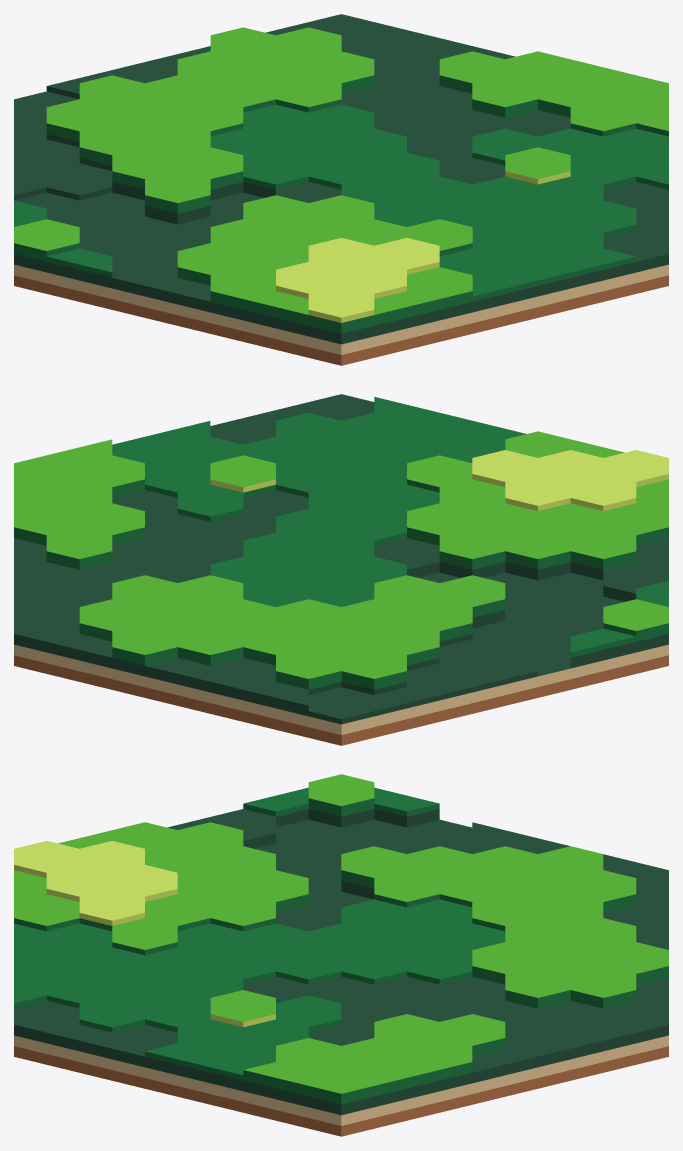
File: Ground.fbx
3 views of the same model, one above another, from view 1: azimuth 30°, elevation 25°; view 2: azimuth 150°, elevation 25°; view 3: azimuth 270°, elevation 25° (orthographic).
Parts seen in each view (by area): view 1: Ground; view 2: Ground; view 3: Ground.
Part boxes in pixels (x1,y1,x2,y2): Ground: (14,14,668,365); Ground: (14,394,668,745); Ground: (14,774,668,1136).
Bounding box in the file's own units: 3200 × 225 × 2771.
